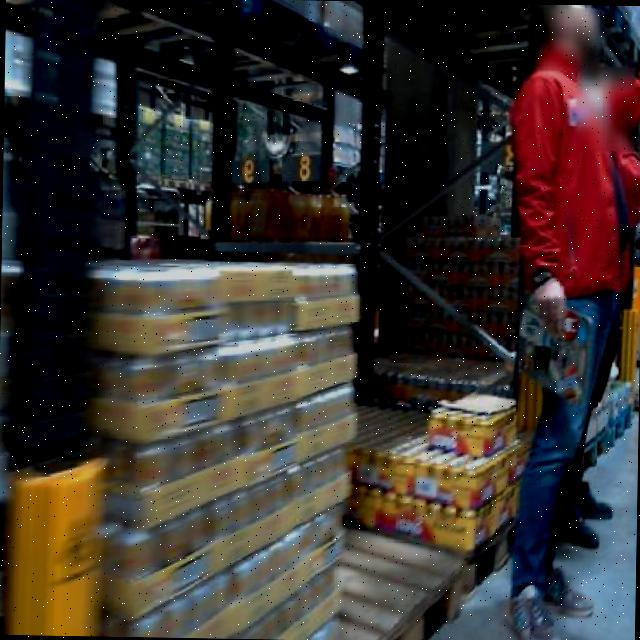pallet: (460, 509, 518, 604), (608, 397, 638, 447)
